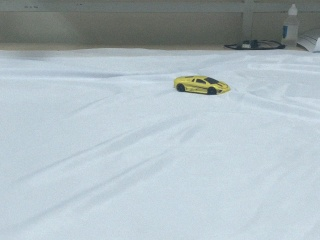bottle: (281, 4, 299, 47)
toy_car: (173, 75, 230, 95)
